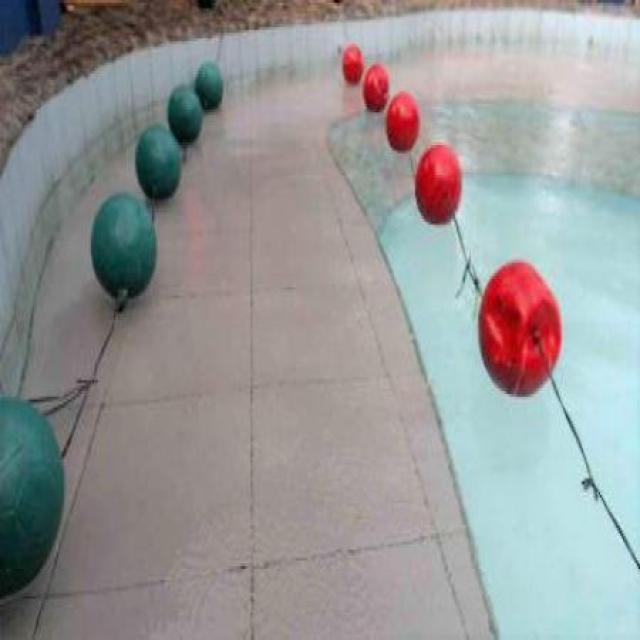buoy: (0, 394, 64, 594), (476, 259, 561, 398), (89, 193, 157, 299), (415, 143, 463, 224), (134, 123, 180, 200), (165, 84, 201, 146), (385, 92, 419, 154), (195, 59, 223, 110), (363, 62, 388, 112), (341, 42, 363, 83)
